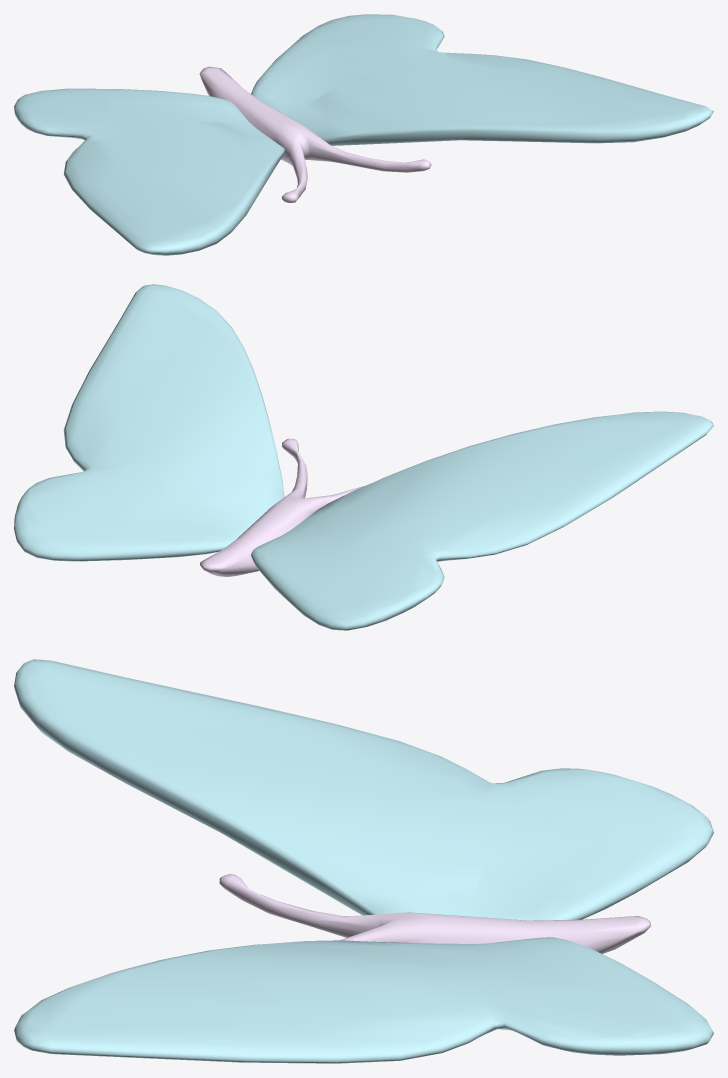
File: SM_butterfly_01.fbx
3 views of the same model, one above another, from view 1: azimuth 30°, elevation 25°; view 2: azimuth 150°, elevation 25°; view 3: azimuth 270°, elevation 25° (orthographic). The views are drawn at different scales.
Parts seen in each view (by area): view 1: WingLeft, WingRight, Body; view 2: WingLeft, WingRight, Body; view 3: WingRight, WingLeft, Body.
Part boxes in pixels (box(x1,y1,x2,y2)): WingLeft: box(251, 14, 713, 145); WingRight: box(14, 88, 284, 255); Body: box(199, 66, 431, 202); WingLeft: box(14, 284, 284, 561); WingRight: box(251, 411, 713, 630); Body: box(200, 438, 363, 576); WingRight: box(14, 659, 713, 920); WingLeft: box(14, 937, 713, 1063); Body: box(219, 873, 650, 953).
Bounding box in the file's own units: 40 × 5.62 × 30.42.
